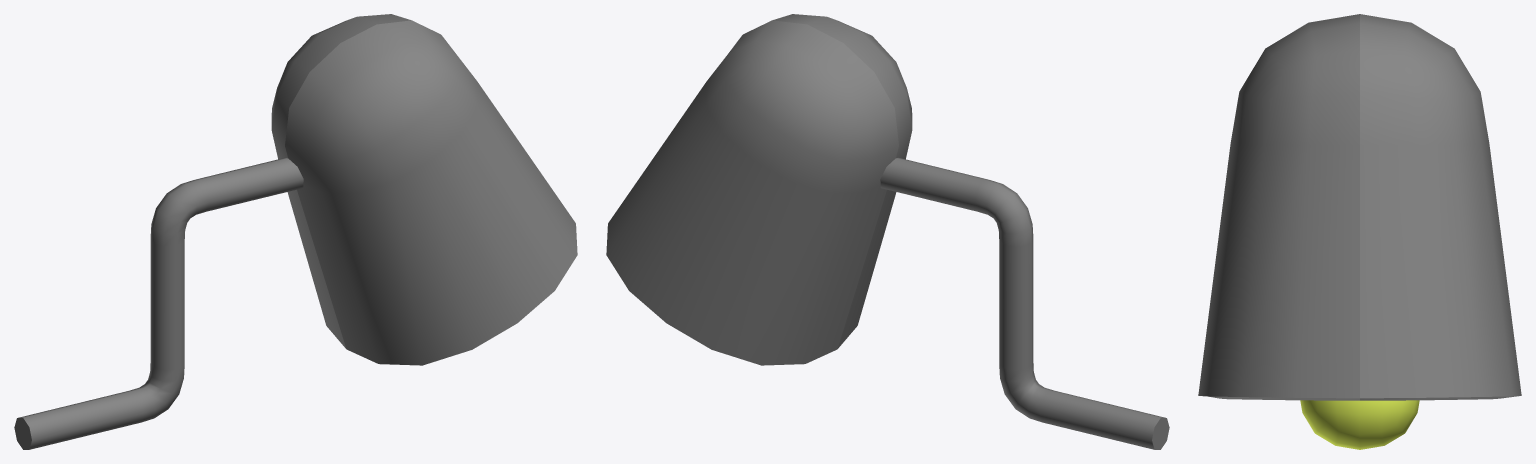
The model's file is DES_WallLamp.fbx.
The picture shows the model from 3 angles, left to right: view 1: azimuth 30°, elevation 25°; view 2: azimuth 150°, elevation 25°; view 3: azimuth 270°, elevation 25°; orthographic projection. The views are drawn at different scales.
Parts seen in each view (by area): view 1: WallLampBrokenPiece_4, WallLampBrokenPiece_6, WallLampBrokenPiece_3, WallLampBrokenPiece_5, WallLampBrokenPiece_7; view 2: WallLampBrokenPiece_3, WallLampBrokenPiece_6, WallLampBrokenPiece_4, WallLampBrokenPiece_5, WallLampBrokenPiece_7; view 3: WallLampBrokenPiece_3, WallLampBrokenPiece_4, WallLampBrokenPiece_1.
Part boxes in pixels (x1,y1,x2,y2): WallLampBrokenPiece_4: (285,20,577,365); WallLampBrokenPiece_6: (145,193,190,408); WallLampBrokenPiece_3: (271,14,410,348); WallLampBrokenPiece_5: (14,384,167,449); WallLampBrokenPiece_7: (167,158,303,218); WallLampBrokenPiece_3: (606,20,898,365); WallLampBrokenPiece_6: (993,193,1038,408); WallLampBrokenPiece_4: (773,14,912,348); WallLampBrokenPiece_5: (1016,384,1169,449); WallLampBrokenPiece_7: (880,157,1016,218); WallLampBrokenPiece_3: (1360,14,1521,400); WallLampBrokenPiece_4: (1198,14,1359,400); WallLampBrokenPiece_1: (1300,400,1419,449).
Size of the model in its own units: 0.4448 by 0.2706 by 0.1916.
